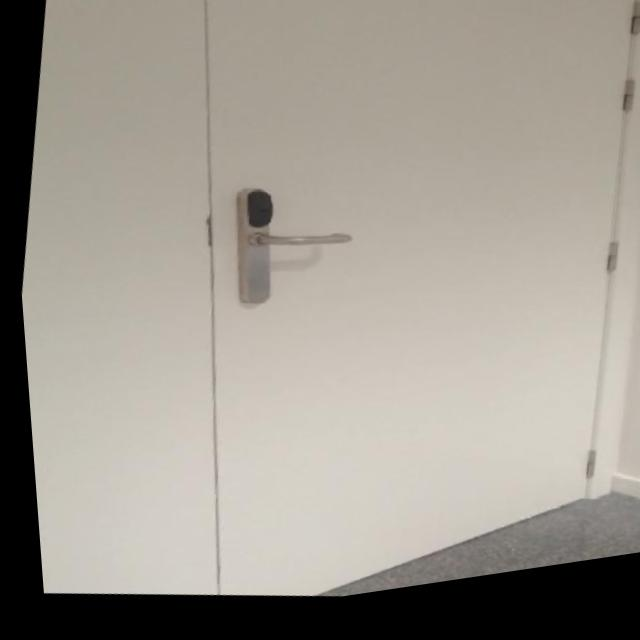door_handle: (238, 223, 369, 277)
